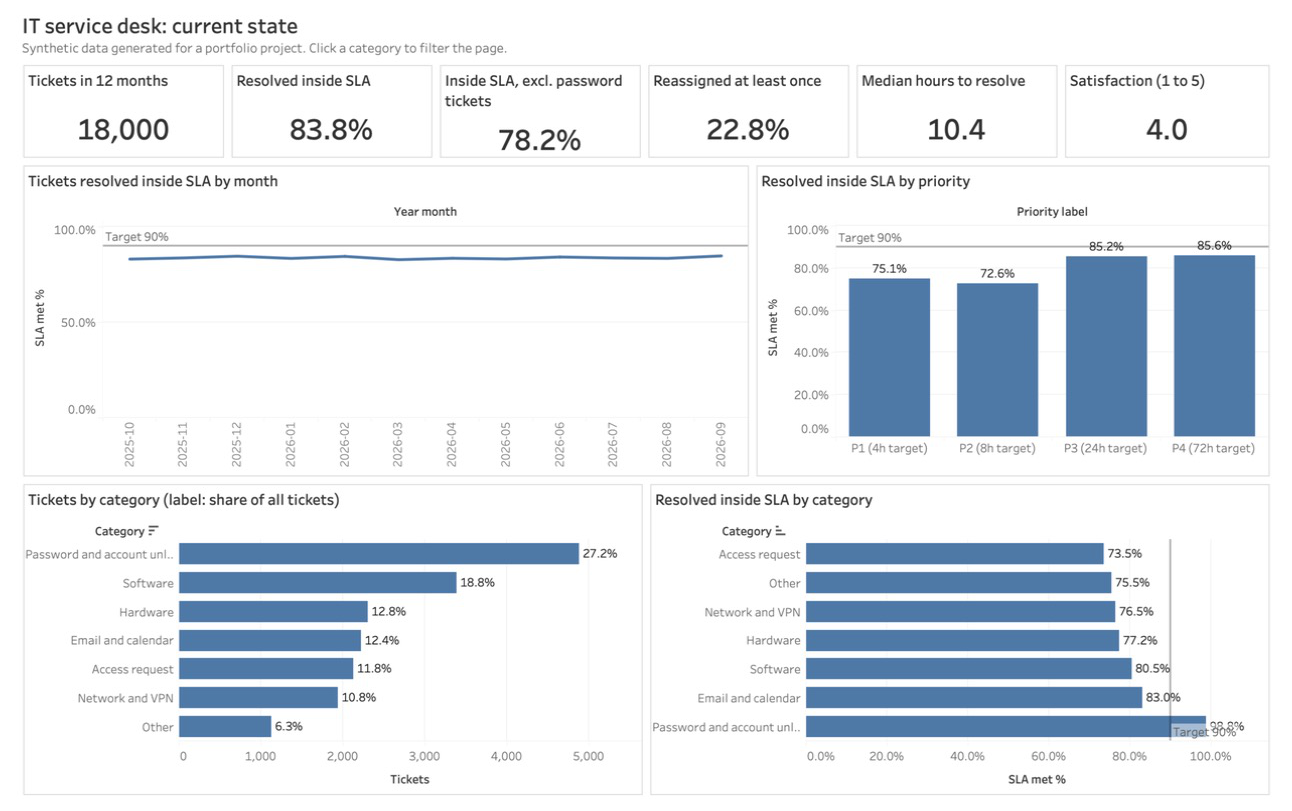

This screenshot's page, from the dashboard's own definition file:
{"tool":"tableau","page":{"name":"Service desk overview","canvas":[1300,820],"ordinal":0},"visuals":[{"type":"title","box":[0,0,1300,56]},{"type":"worksheet","title":"Ticket count","mark":"Text","box":[0,56,216,104]},{"type":"worksheet","title":"SLA met","mark":"Text","box":[216,56,216,104]},{"type":"worksheet","title":"SLA met excluding password","mark":"Text","box":[432,56,216,104]},{"type":"worksheet","title":"Reassigned","mark":"Text","box":[648,56,216,104]},{"type":"worksheet","title":"Median resolution hours","mark":"Text","box":[864,56,216,104]},{"type":"worksheet","title":"Satisfaction","mark":"Text","box":[1080,56,220,104]},{"type":"worksheet","title":"SLA by month","mark":"Line","rows":["c_sla"],"cols":["year_month"],"box":[0,160,760,330]},{"type":"worksheet","title":"SLA by priority","mark":"Bar","rows":["c_sla"],"cols":["priority_label"],"box":[760,160,540,330]},{"type":"worksheet","title":"Tickets by category","mark":"Bar","rows":["category"],"cols":["c_tickets"],"box":[0,490,650,330]},{"type":"worksheet","title":"SLA by category","mark":"Bar","rows":["category"],"cols":["c_sla"],"box":[650,490,650,330]}]}

Visuals, with their boxes in screenshot pixels (x1, y1, x2, y2), scaled from the page's 1300x820 canvas onto the 1292x811 screenshot:
title: pyautogui.locateOnScreen(0, 0, 1291, 55)
"Ticket count" worksheet (Text marks): pyautogui.locateOnScreen(0, 55, 215, 158)
"SLA met" worksheet (Text marks): pyautogui.locateOnScreen(215, 55, 429, 158)
"SLA met excluding password" worksheet (Text marks): pyautogui.locateOnScreen(429, 55, 644, 158)
"Reassigned" worksheet (Text marks): pyautogui.locateOnScreen(644, 55, 859, 158)
"Median resolution hours" worksheet (Text marks): pyautogui.locateOnScreen(859, 55, 1073, 158)
"Satisfaction" worksheet (Text marks): pyautogui.locateOnScreen(1073, 55, 1291, 158)
"SLA by month" worksheet (Line marks): pyautogui.locateOnScreen(0, 158, 755, 485)
"SLA by priority" worksheet (Bar marks): pyautogui.locateOnScreen(755, 158, 1291, 485)
"Tickets by category" worksheet (Bar marks): pyautogui.locateOnScreen(0, 485, 646, 810)
"SLA by category" worksheet (Bar marks): pyautogui.locateOnScreen(646, 485, 1291, 810)
